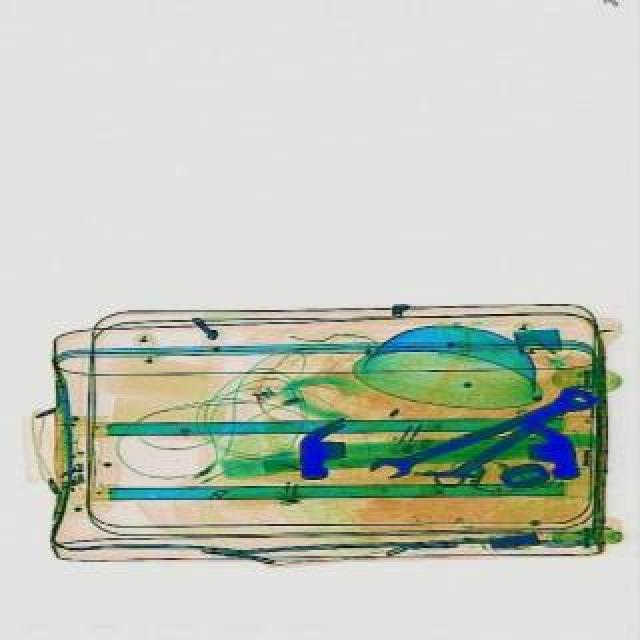scissors: (364, 378, 598, 486), (430, 376, 598, 492)
